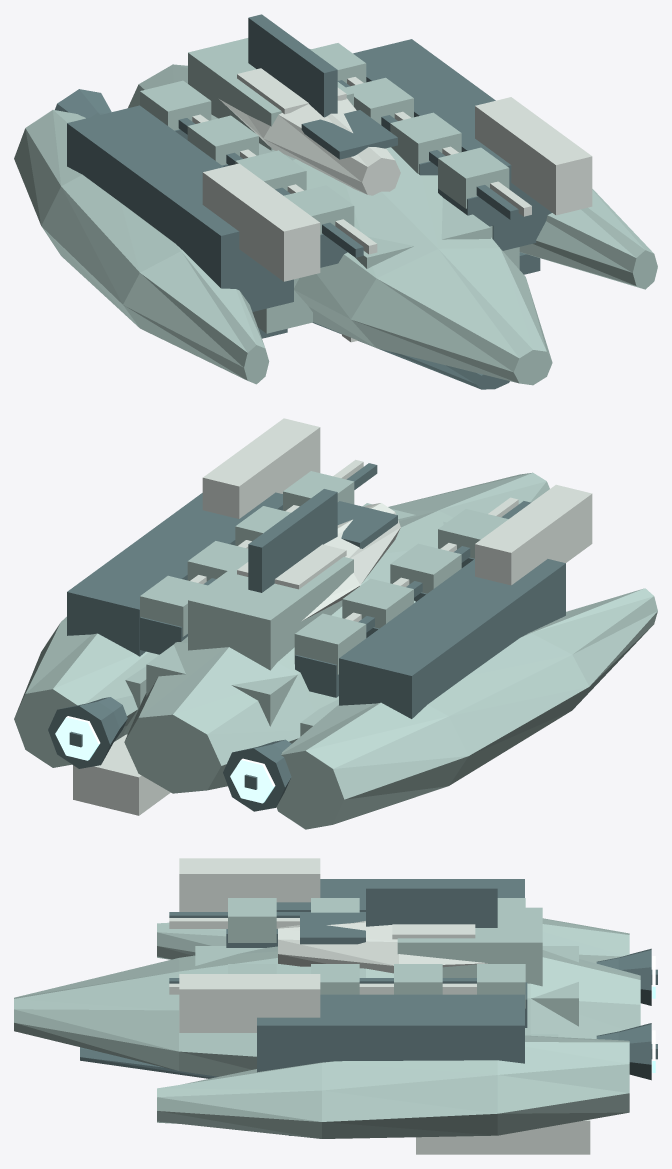
The picture shows the model from 3 angles, top to bottom: view 1: azimuth 30°, elevation 25°; view 2: azimuth 150°, elevation 25°; view 3: azimuth 270°, elevation 25°; orthographic projection. The views are drawn at different scales.
Bounding box in the file's own units: 18.07 × 9.12 × 24.84.
